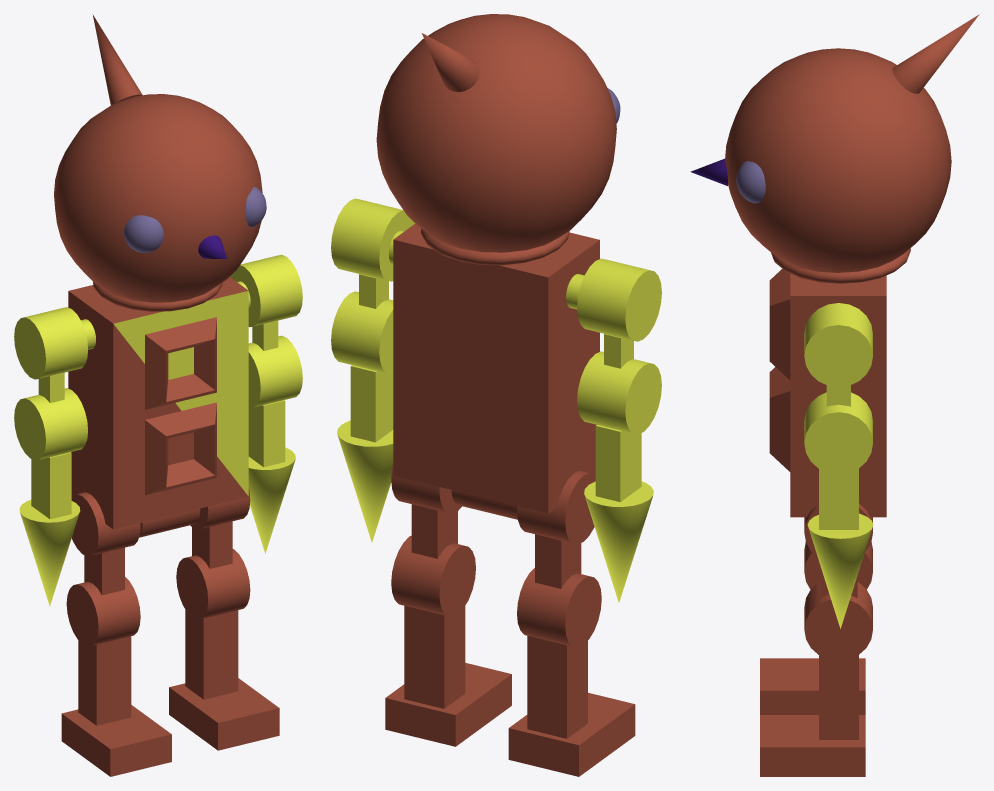
The model's file is robot.fbx.
3 renders of one model, left to right at view 1: azimuth 30°, elevation 25°; view 2: azimuth 150°, elevation 25°; view 3: azimuth 270°, elevation 25°, orthographic. The views are drawn at different scales.
Visible parts, largest first — view 1: head, body, foot_r, foot_l, button_01, button_02, leg_l_04, leg_r_04, arm_r_02, arm_r_04, leg_l_02, leg_r_03 (+18 smaller); view 2: body, head, foot_r, foot_l, leg_l_04, leg_r_04, arm_r_02, arm_r_04, leg_l_02, leg_r_03, arm_l_02, arm_l_03 (+13 smaller); view 3: head, body, foot_l, arm_l_02, arm_l_03, leg_l_02, foot_r, hand_l, leg_l_04, arm_l_05, button_01, needle (+5 smaller).
Part boxes in pixels (box(x1,y1,x2,y2)): head: box(54, 94, 262, 302); body: box(68, 277, 248, 529); foot_r: box(61, 705, 171, 776); foot_l: box(169, 678, 279, 750); button_01: box(145, 317, 216, 409); button_02: box(145, 402, 216, 495); leg_l_04: box(185, 610, 238, 699); leg_r_04: box(78, 636, 131, 725); arm_r_02: box(14, 307, 87, 379); arm_r_04: box(14, 388, 87, 460); leg_l_02: box(176, 549, 250, 619); leg_r_03: box(66, 577, 140, 646); body: box(393, 223, 599, 513); head: box(376, 14, 616, 252); foot_r: box(508, 692, 635, 776); foot_l: box(385, 663, 511, 746); leg_l_04: box(404, 605, 465, 708); leg_r_04: box(527, 635, 587, 738); arm_r_02: box(577, 258, 661, 341); arm_r_04: box(577, 351, 661, 434); leg_l_02: box(391, 535, 475, 616); leg_r_03: box(517, 568, 601, 647); arm_l_02: box(331, 198, 414, 281); arm_l_03: box(331, 291, 393, 374); head: box(725, 48, 951, 272); body: box(790, 274, 886, 517); foot_l: box(760, 715, 865, 776); arm_l_02: box(804, 303, 872, 387); arm_l_03: box(804, 392, 872, 474); leg_l_02: box(804, 582, 872, 660); foot_r: box(760, 658, 865, 714); hand_l: box(807, 513, 873, 628); leg_l_04: box(819, 655, 858, 739); arm_l_05: box(819, 468, 858, 529); button_01: box(769, 269, 790, 379); needle: box(892, 14, 979, 93).
Bounding box in the file's own units: 2.53 × 6.02 × 2.2.
